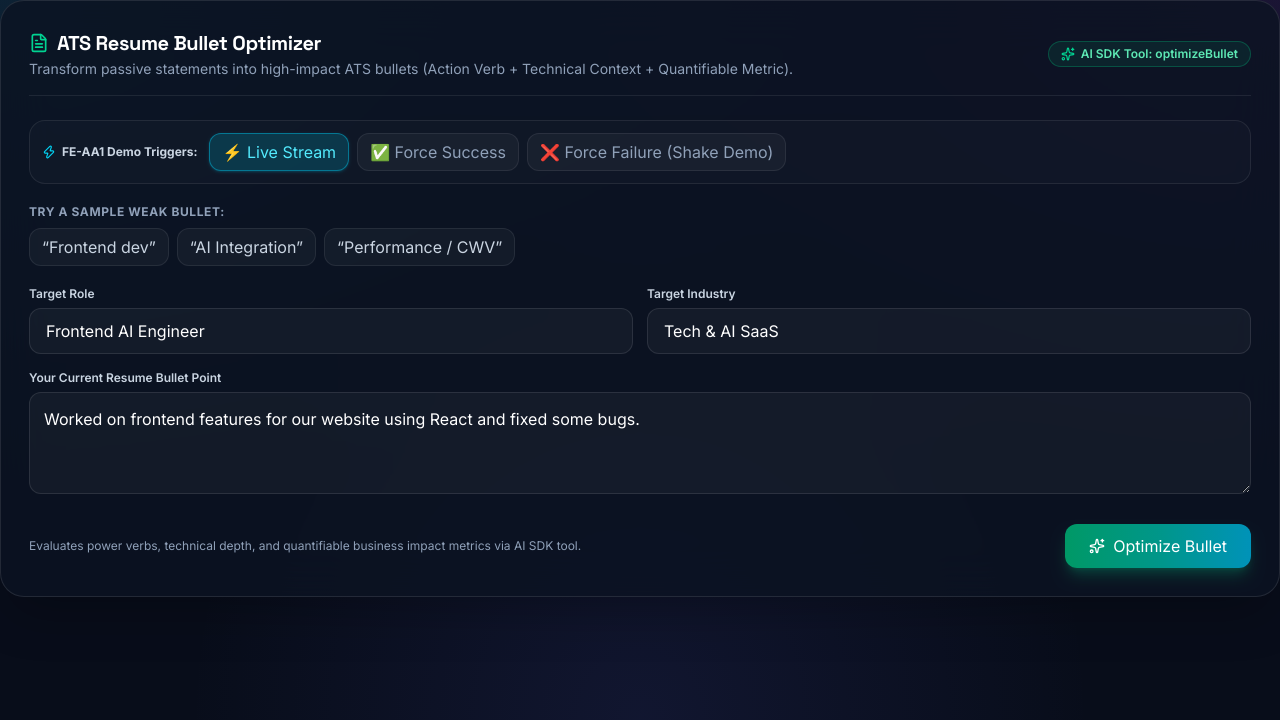
Test case: ResumeOptimizer Component (FE-07 AI SDK Tool Flow) › handles and displays output-error tool state gracefully with retry button
This screenshot has width=1280, height=720.
Click the button "Optimize Bullet" at (1158, 546), box [1065,524,1251,568]
(page scrolled)
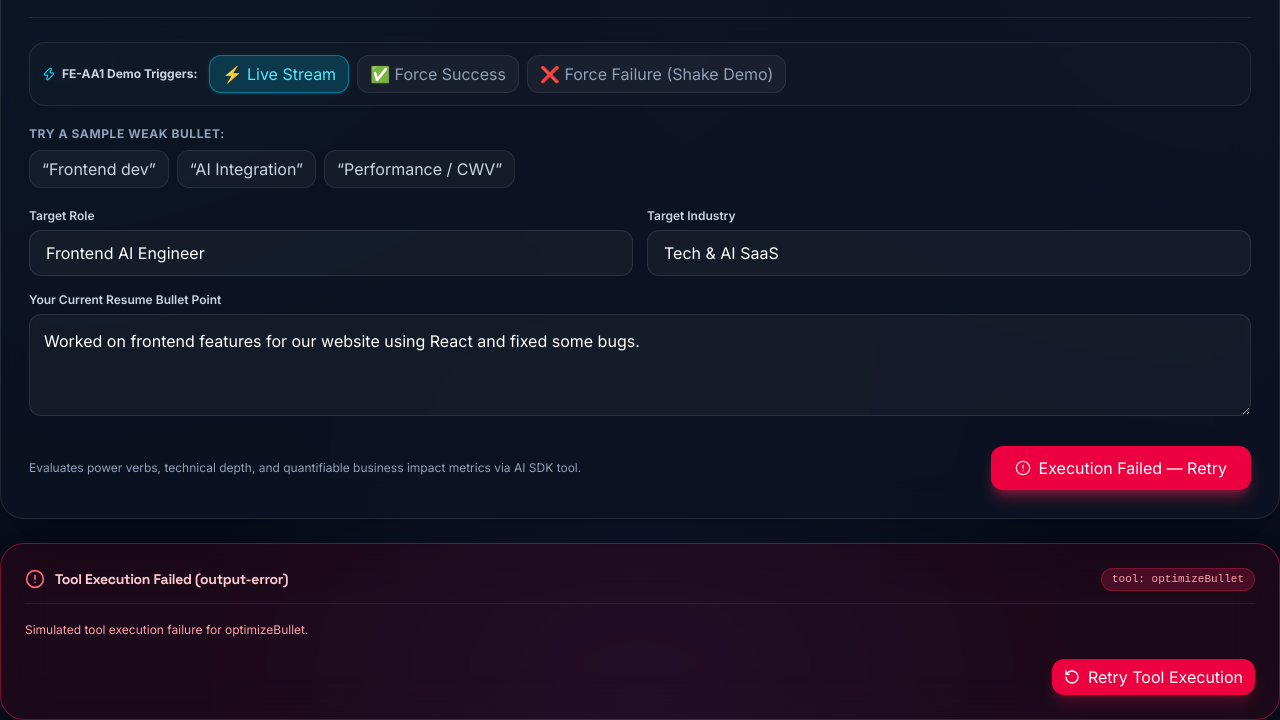
Now the message with test id "tool-state-output-error" is shown, box [0,543,1279,719]
Now the message shows "Simulated tool execution failure for optimizeBullet", box [25,622,308,636]
Now the button "Retry Tool Execution" is shown, box [1052,659,1255,695]
